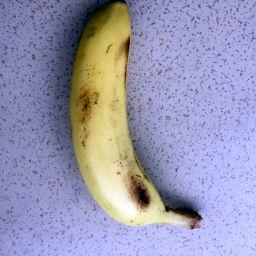Banana Ripe: (54, 1, 209, 247)
